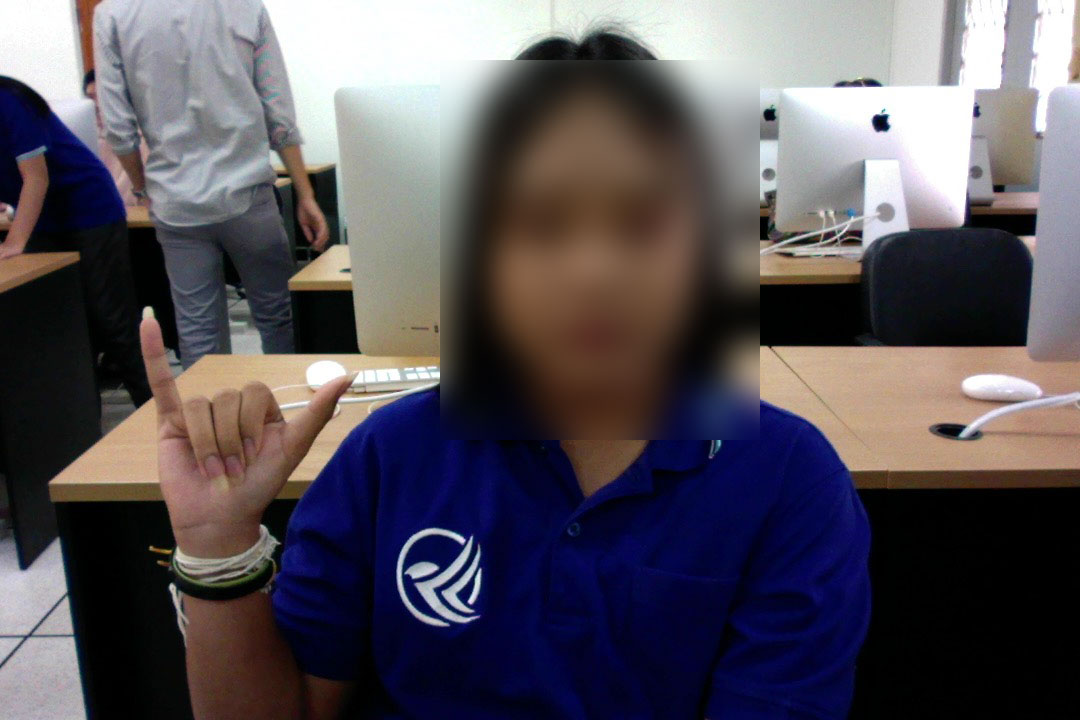yor: (134, 296, 365, 559)
